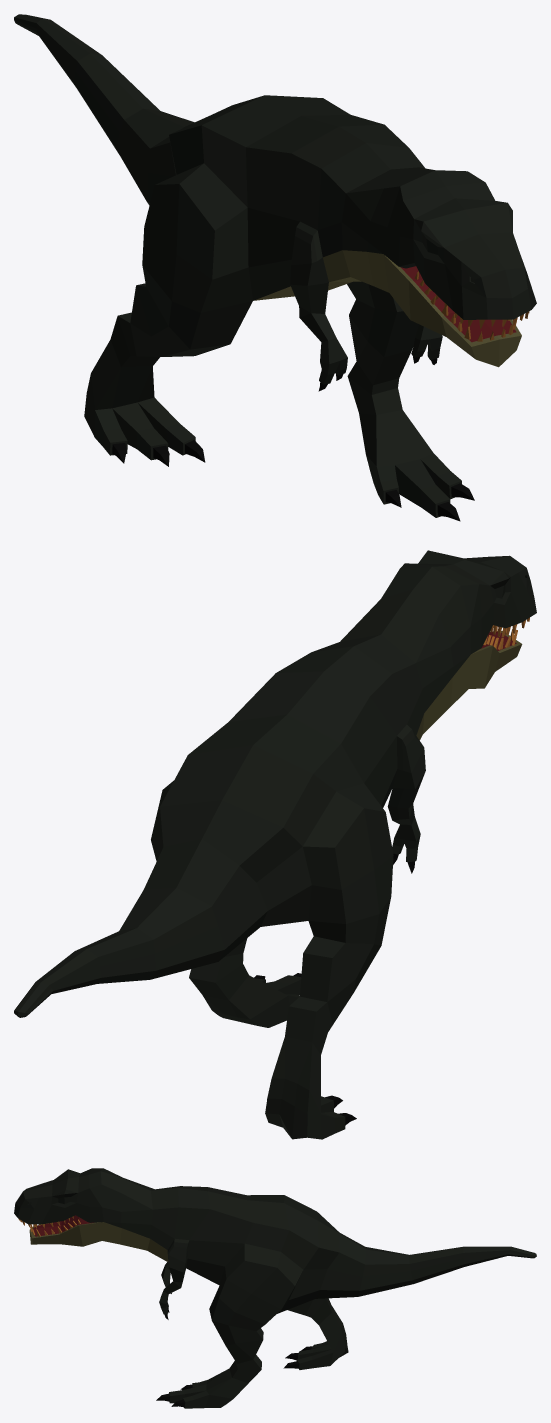
Rendered from Trex_000001.obj.
The picture shows the model from 3 angles, top to bottom: view 1: azimuth 30°, elevation 25°; view 2: azimuth 150°, elevation 25°; view 3: azimuth 270°, elevation 25°; orthographic projection. The views are drawn at different scales.
Parts seen in each view (by area): view 1: Trex_Cylinder; view 2: Trex_Cylinder; view 3: Trex_Cylinder.
Part boxes in pixels (bbox=[...]): Trex_Cylinder: bbox=[14, 14, 536, 521]; Trex_Cylinder: bbox=[14, 550, 536, 1139]; Trex_Cylinder: bbox=[14, 1168, 536, 1408].
Bounding box in the file's own units: 8.14 × 13.86 × 31.08.
